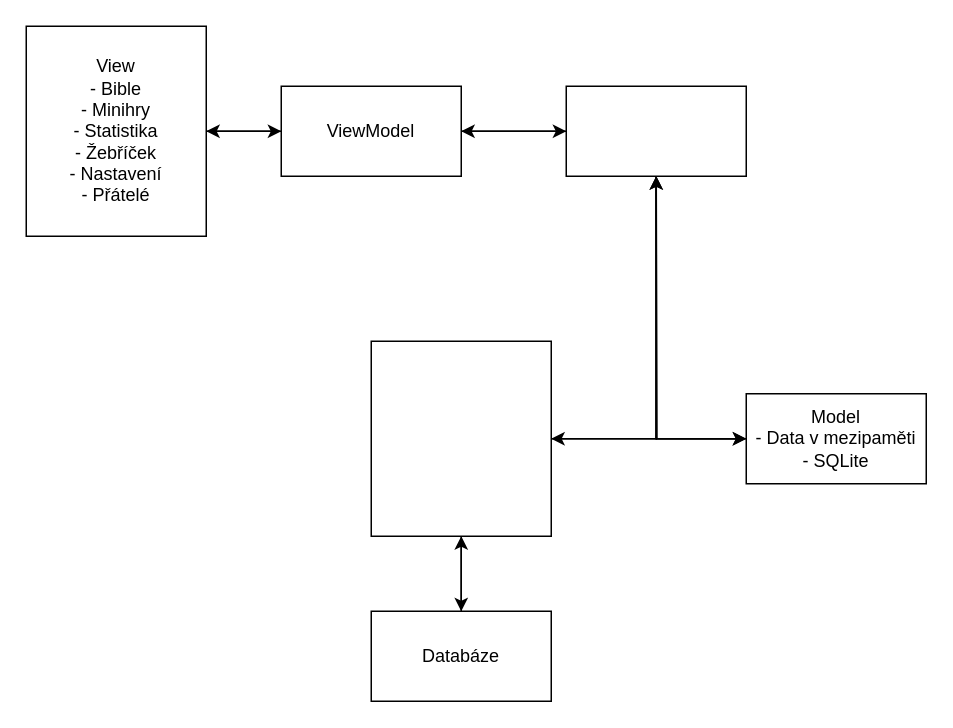
Some shapes in this 953 by 728 pixel diagram are drawn without their labels. The shapes that lost their labels are listed below. From the top down, each one's centre as x and y in pixels, then its label:
At [655,130]: "Repository".
At [460,438]: "Server (moduly) - Auth - Bible - Learning - Social - Stats - Settings - Sync".
